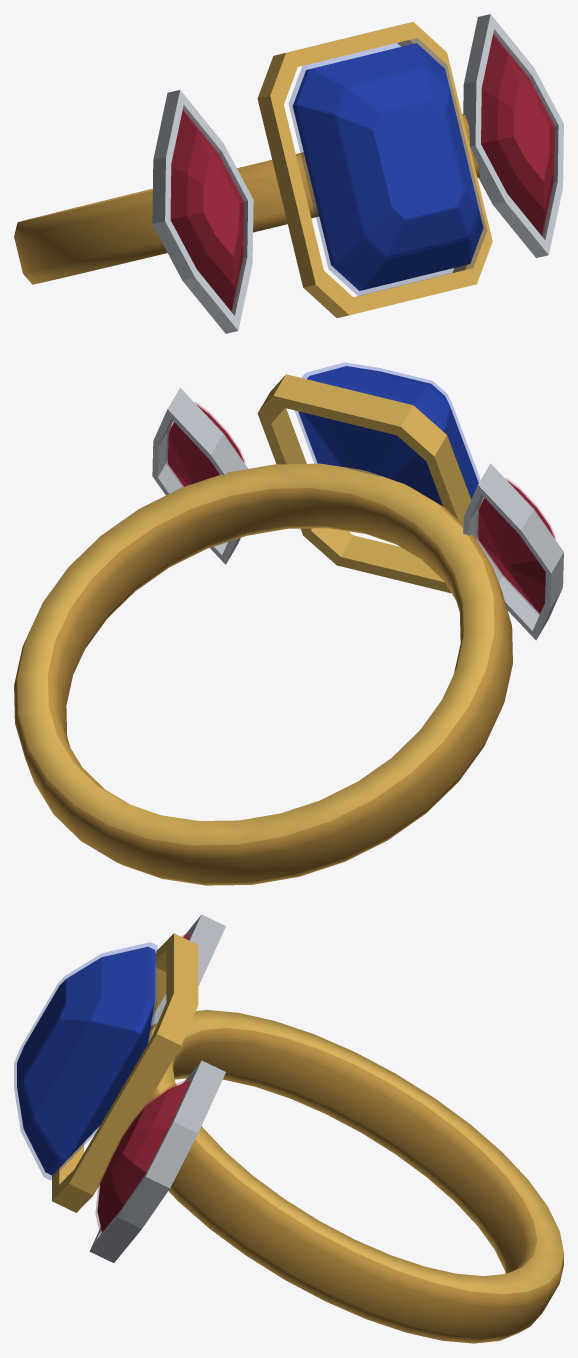
The model's file is item_ring3.glb.
3 views of the same model, one above another, from view 1: azimuth 30°, elevation 25°; view 2: azimuth 150°, elevation 25°; view 3: azimuth 270°, elevation 25° (orthographic). The views are drawn at different scales.
Parts seen in each view (by area): view 1: jewellery_ring3, jewellery_ring3_glass; view 2: jewellery_ring3, jewellery_ring3_glass; view 3: jewellery_ring3, jewellery_ring3_glass.
Part boxes in pixels (left/top/right/bottom): jewellery_ring3: left=14, top=14, right=563, bottom=333; jewellery_ring3_glass: left=171, top=33, right=555, bottom=312; jewellery_ring3: left=14, top=366, right=563, bottom=885; jewellery_ring3_glass: left=166, top=362, right=555, bottom=614; jewellery_ring3: left=17, top=914, right=563, bottom=1343; jewellery_ring3_glass: left=14, top=932, right=191, bottom=1234.
Bounding box in the file's own units: 0.79 × 0.6069 × 0.892.
7 materials, 1 textured.
